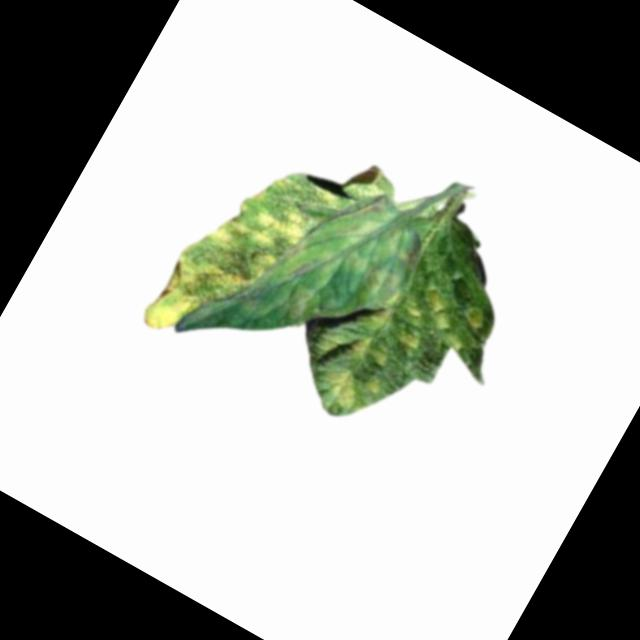Leaf_Mold: (137, 138, 342, 376), (260, 173, 435, 366), (385, 271, 491, 374), (311, 353, 382, 421), (342, 326, 394, 373)
